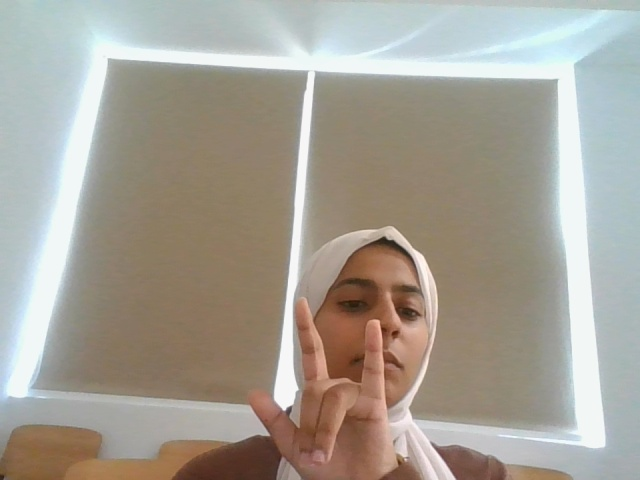love: (232, 292, 404, 480)
